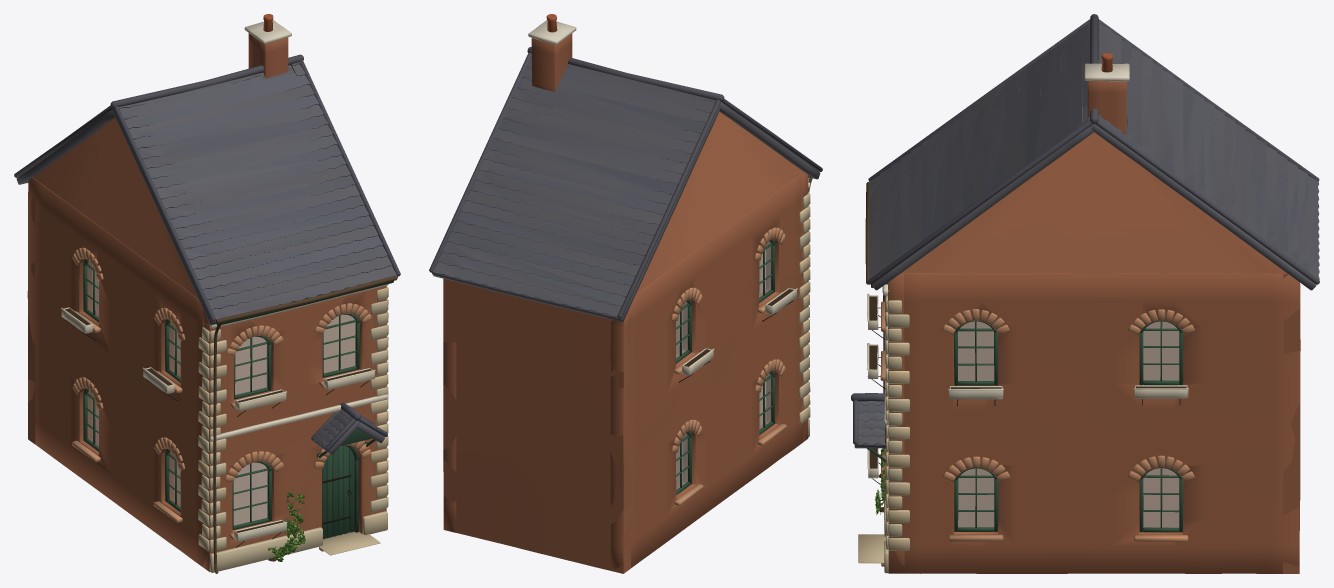
The model's file is GateStreet_BehindOuter6.glb.
3 views of the same model, side by side, from view 1: azimuth 30°, elevation 25°; view 2: azimuth 150°, elevation 25°; view 3: azimuth 270°, elevation 25° (orthographic). The views are drawn at different scales.
Visible parts, largest first — view 1: Sammel Ziegel, Sammel Stein, Sammel Lack, Sammel Putz, Glas, Sammel Putz innen, Sammel Metall, Sammel Pflanze; view 2: Sammel Ziegel, Sammel Stein, Sammel Putz, Sammel Lack, Glas, Sammel Putz innen; view 3: Sammel Ziegel, Sammel Stein, Sammel Putz innen, Glas, Sammel Lack, Sammel Putz, Sammel Metall.
Boxes of the visible parts, box(x1,y1,x2,y2) form: Sammel Ziegel: box(27, 33, 386, 572); Sammel Stein: box(14, 54, 400, 572); Sammel Lack: box(61, 259, 393, 541); Sammel Putz: box(65, 14, 388, 561); Glas: box(87, 262, 355, 525); Sammel Putz innen: box(92, 266, 354, 525); Sammel Metall: box(65, 275, 397, 573); Sammel Pflanze: box(268, 488, 305, 561); Sammel Ziegel: box(443, 33, 808, 573); Sammel Stein: box(429, 47, 822, 437); Sammel Putz: box(528, 14, 810, 505); Sammel Lack: box(676, 175, 810, 494); Glas: box(676, 241, 770, 489); Sammel Putz innen: box(676, 246, 766, 486); Sammel Ziegel: box(888, 81, 1300, 573); Sammel Stein: box(851, 14, 1319, 573); Sammel Putz innen: box(958, 321, 1179, 527); Glas: box(958, 321, 1178, 527); Sammel Lack: box(867, 282, 1188, 532); Sammel Putz: box(869, 53, 1194, 566); Sammel Metall: box(865, 182, 1180, 484).
Size of the model in its own units: 5.34 by 10.99 by 9.12.
